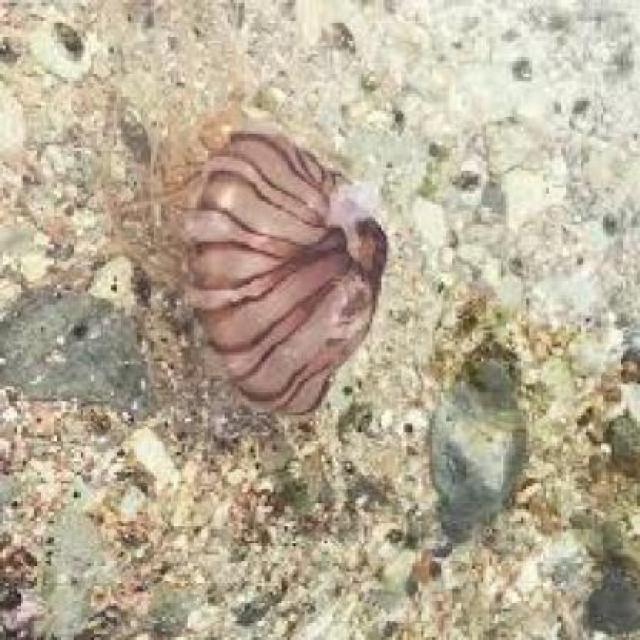Jellyfish: (153, 127, 390, 416)
